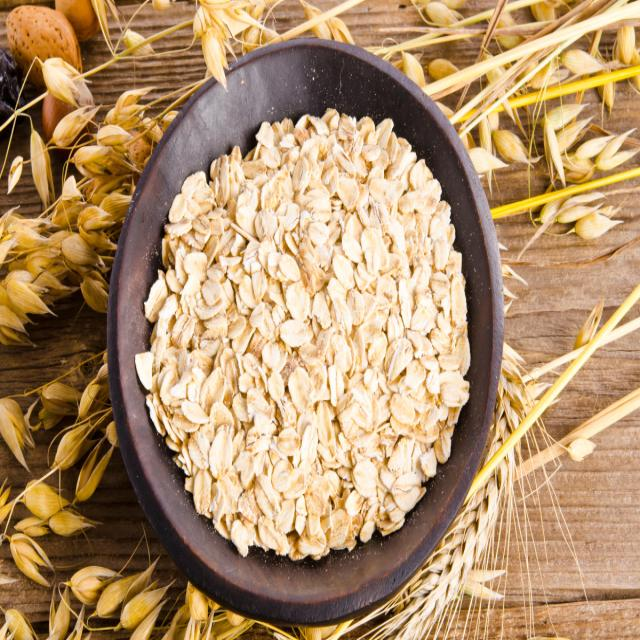avena: (136, 108, 472, 550)
